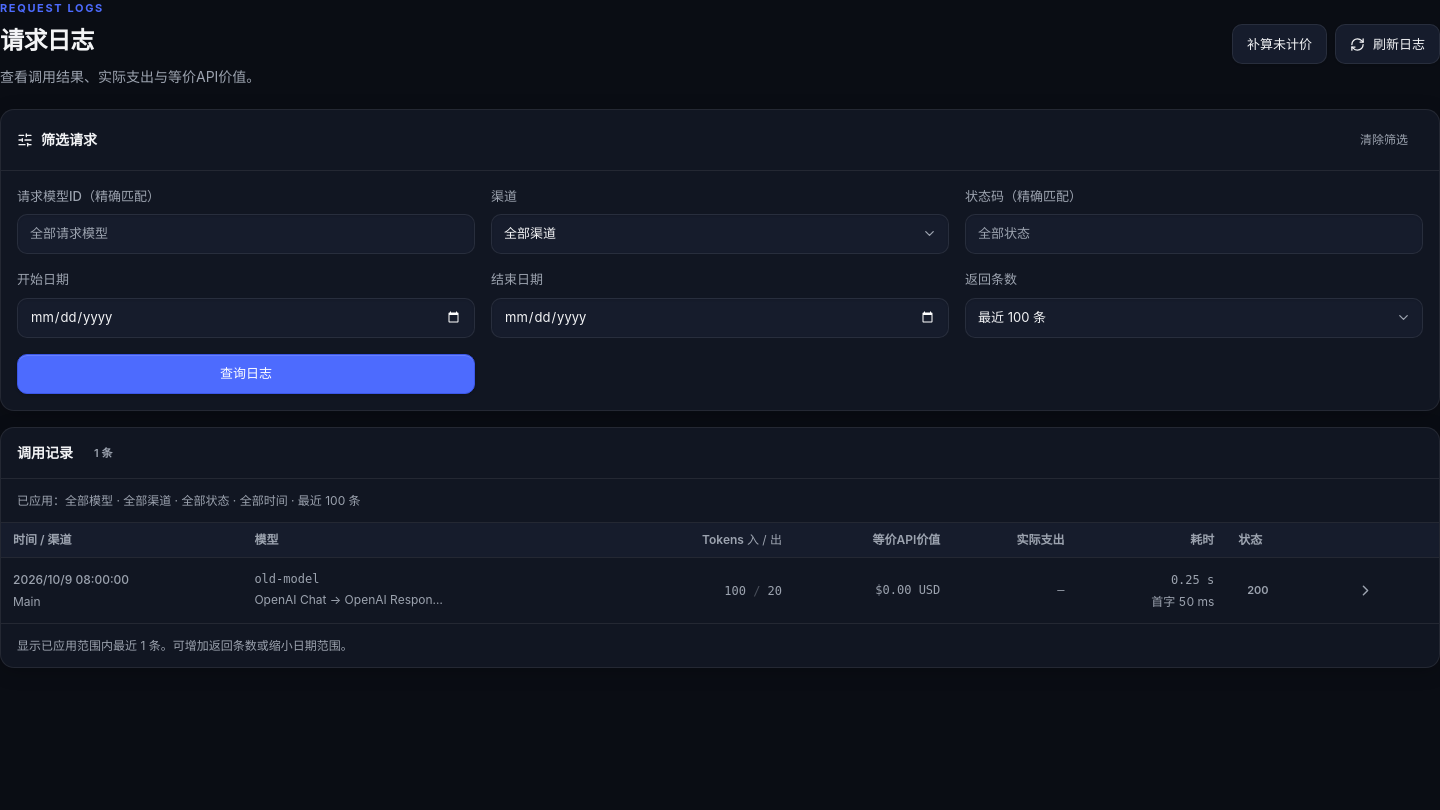
Test: shows errors and attempt trace before progressive token and pricing diagnostics without changing legacy resolution
Step 1. Click the button named "查看请求 1 详情" → (1366,590), box [1348, 572, 1384, 608]
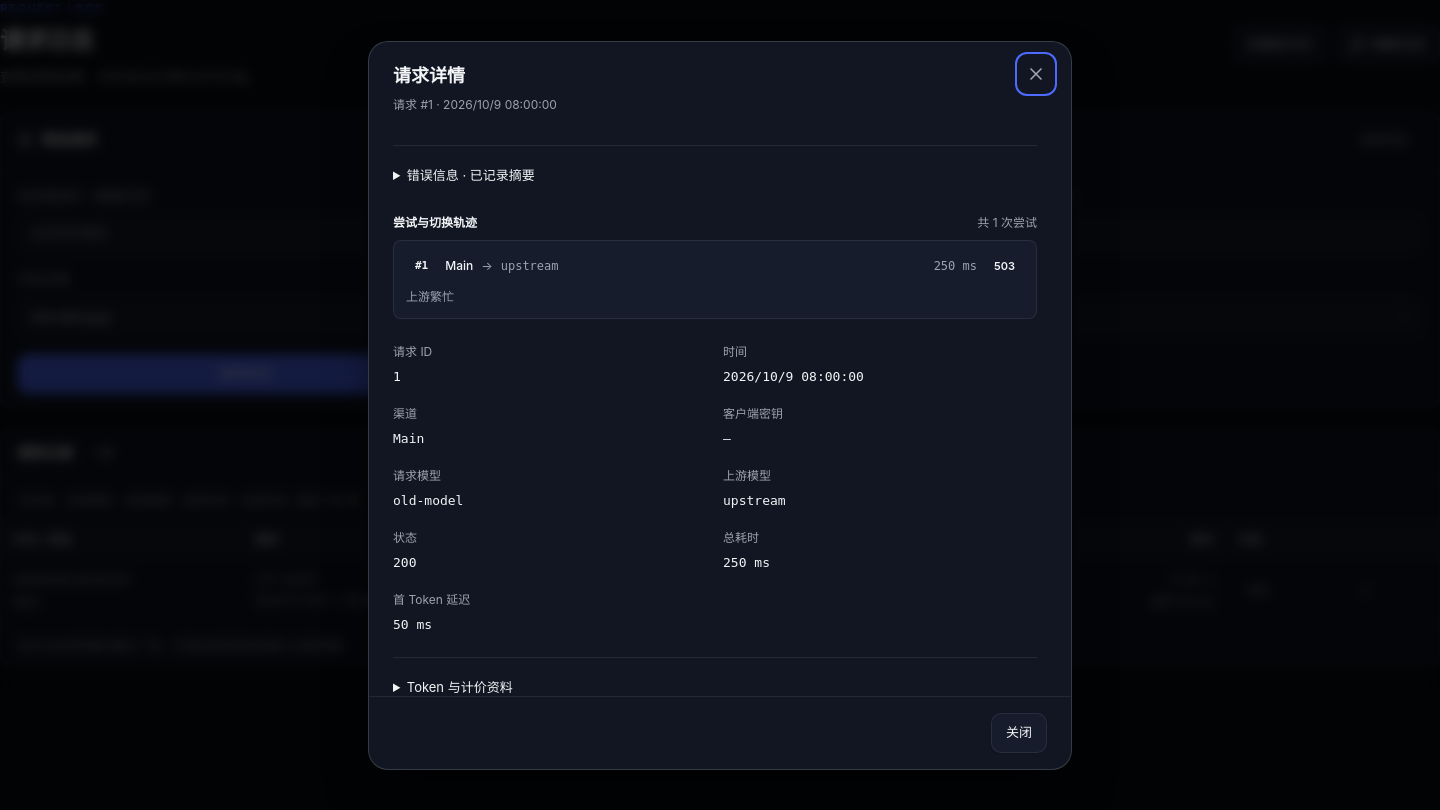
Step 2. Click the heading "Token 与计价资料" → (460,687), box [407, 679, 513, 695]
(page scrolled)
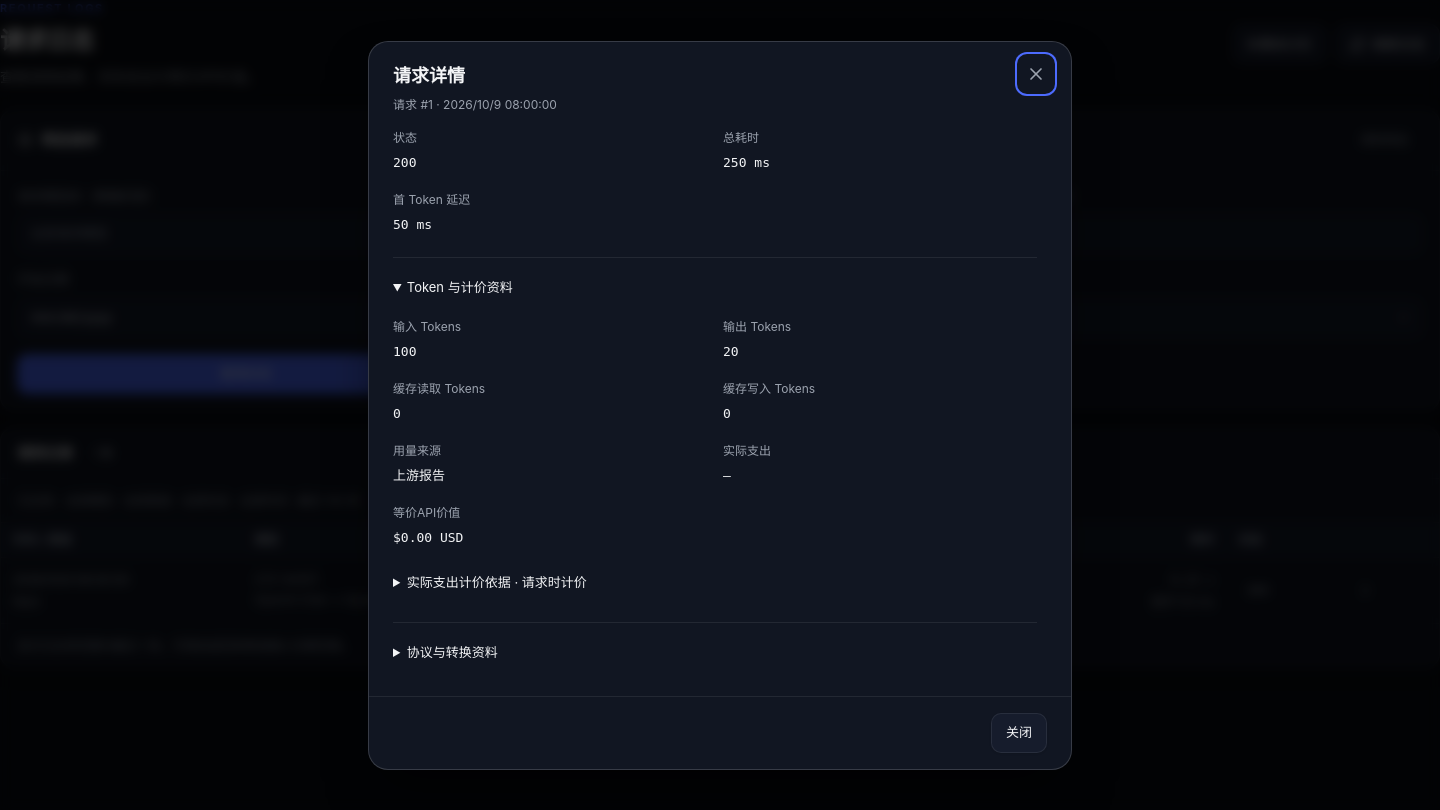
Now the text "—" is shown, box [723, 468, 731, 483]
Now the text "$0.00 USD" is shown, box [393, 530, 464, 545]
